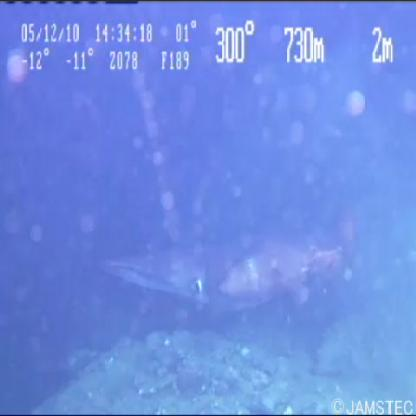Bio: (96, 207, 371, 321)
